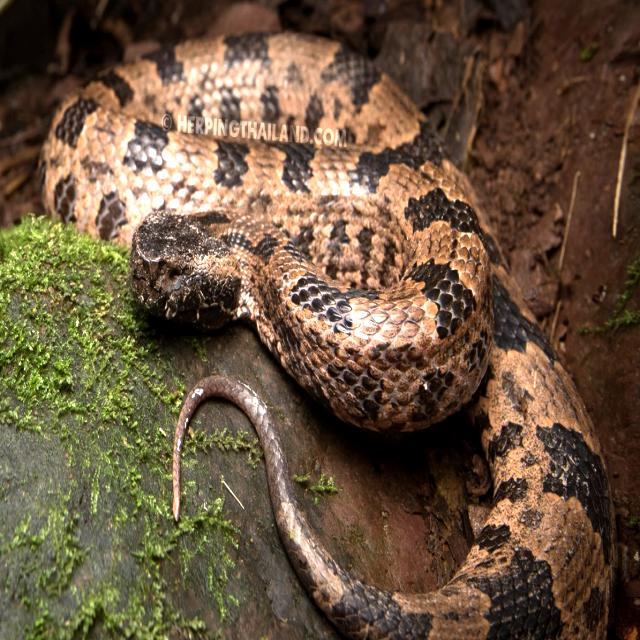Ovophis monticola: (41, 34, 616, 639)
snake: (41, 34, 616, 639)
